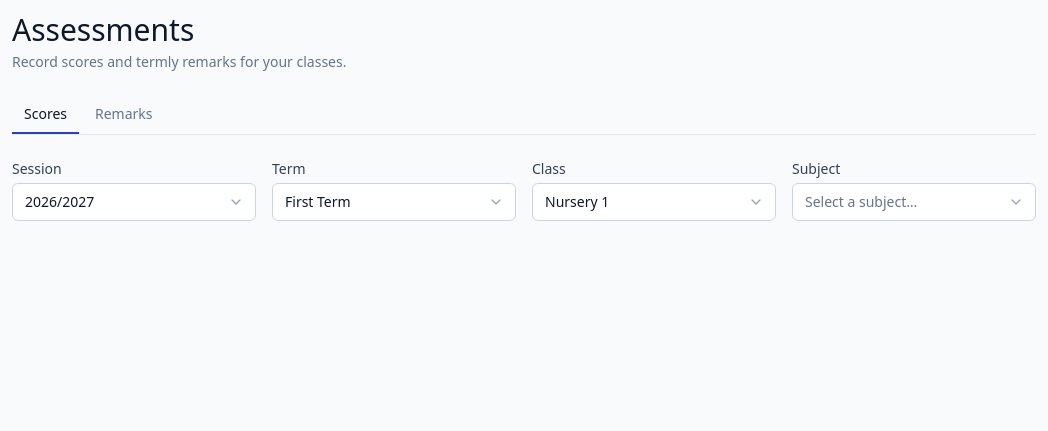
Test case: AssessmentsPage › offers "All subjects" to a class teacher and opens the all-subjects sheet
The width and height of the screenshot is (1048, 431).
Click the dropdown labelled "Subject": (914, 202) [792,183,1036,221]
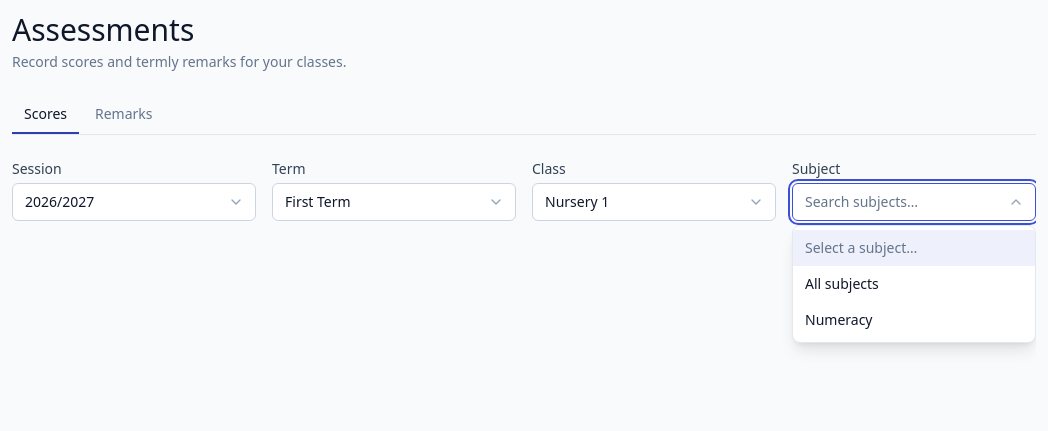
Click the option "All subjects": (842, 284) [805,274,879,293]
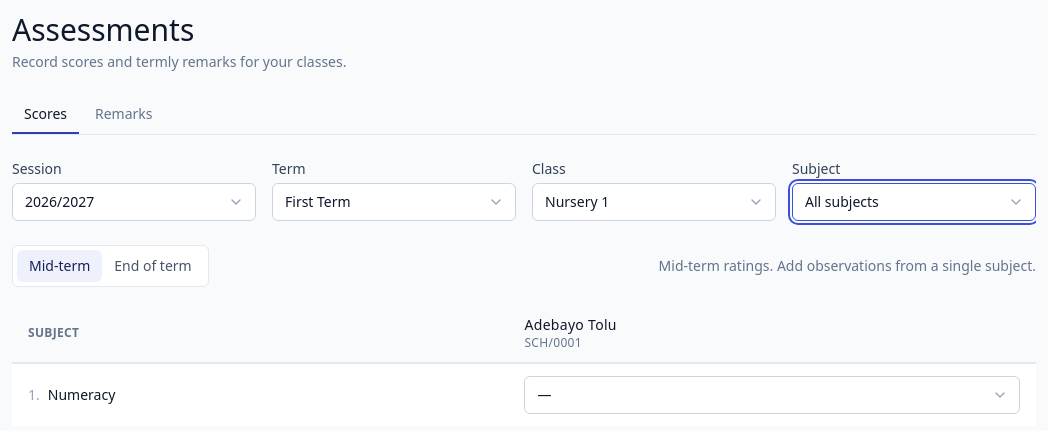
Check: the dropdown named "Mid-term rating for Adebayo Tolu in Numeracy" is shown, box [524,376,1020,414]
